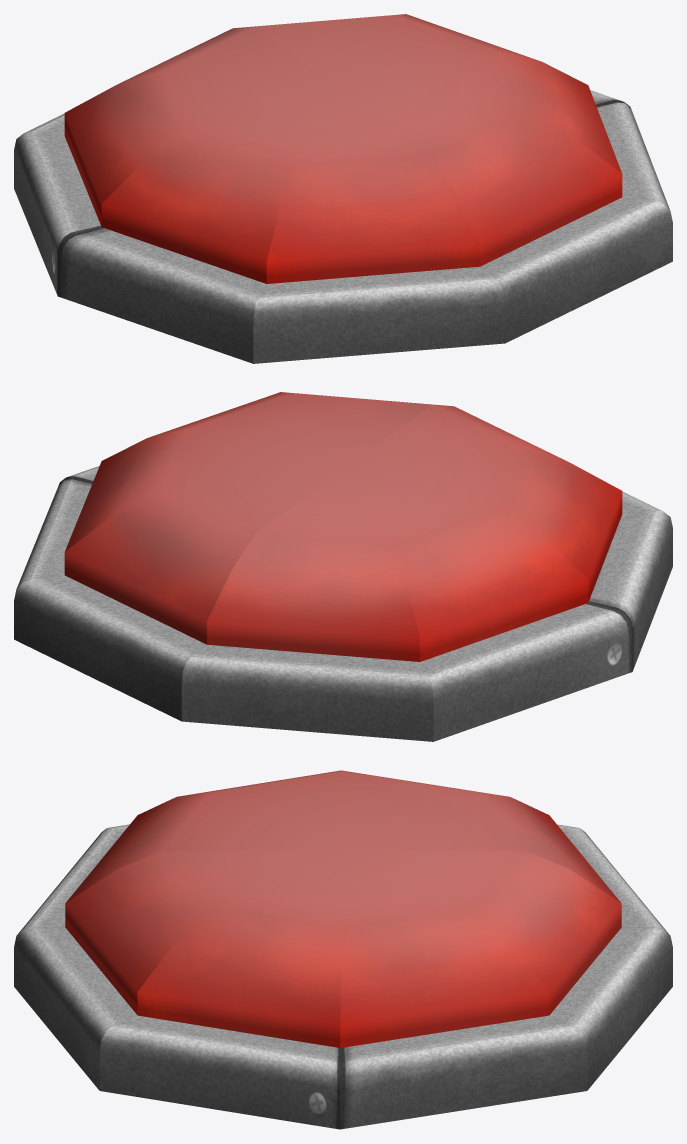
The model's file is NapalmBomb.fbx.
3 renders of one model, top to bottom at view 1: azimuth 30°, elevation 25°; view 2: azimuth 150°, elevation 25°; view 3: azimuth 270°, elevation 25°, orthographic.
Parts seen in each view (by area): view 1: napalmBomb_1:pCube1; view 2: napalmBomb_1:pCube1; view 3: napalmBomb_1:pCube1.
Part boxes in pixels (x1=…): napalmBomb_1:pCube1: x1=14, y1=14, x2=672, y2=363; napalmBomb_1:pCube1: x1=14, y1=392, x2=672, y2=741; napalmBomb_1:pCube1: x1=14, y1=770, x2=672, y2=1129.
Size of the model in its own units: 9.88 by 2.2 by 9.63.
